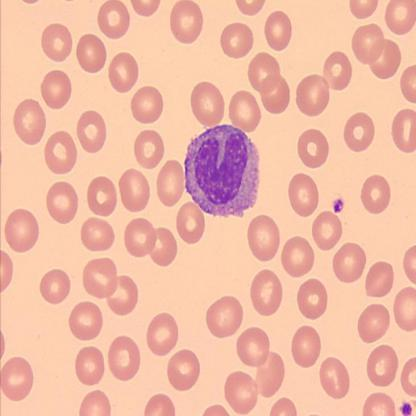Monocyte: (181, 121, 263, 220)
